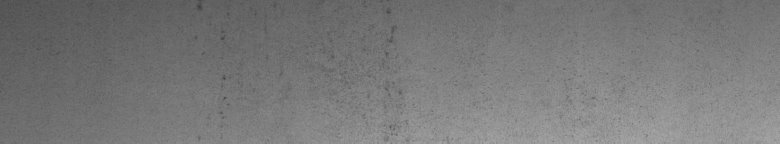ib: (197, 4, 402, 136)
